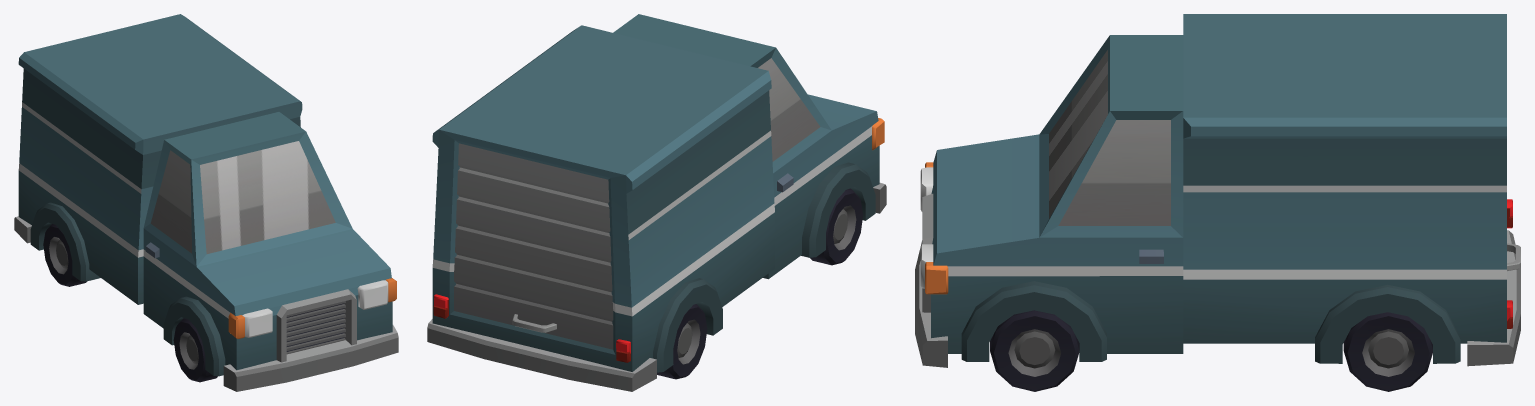
File: PostCar_5.fbx
3 views of the same model, side by side, from view 1: azimuth 30°, elevation 25°; view 2: azimuth 150°, elevation 25°; view 3: azimuth 270°, elevation 25° (orthographic). The views are drawn at different scales.
Parts seen in each view (by area): view 1: PostCar_5, Wheel_FR, Wheel_BR; view 2: PostCar_5, Wheel_FR, Wheel_BR; view 3: PostCar_5, Wheel_FL, Wheel_BL.
Boxes of the visible parts, x1,y1,x2,y2 form: PostCar_5: (14,14,398,391); Wheel_FR: (173,318,217,382); Wheel_BR: (43,224,86,286); PostCar_5: (427,14,886,391); Wheel_FR: (810,188,863,265); Wheel_BR: (657,304,707,379); PostCar_5: (915,14,1520,367); Wheel_FL: (990,310,1079,391); Wheel_BL: (1343,312,1432,391).
Size of the model in its own units: 118 by 124 by 251.
